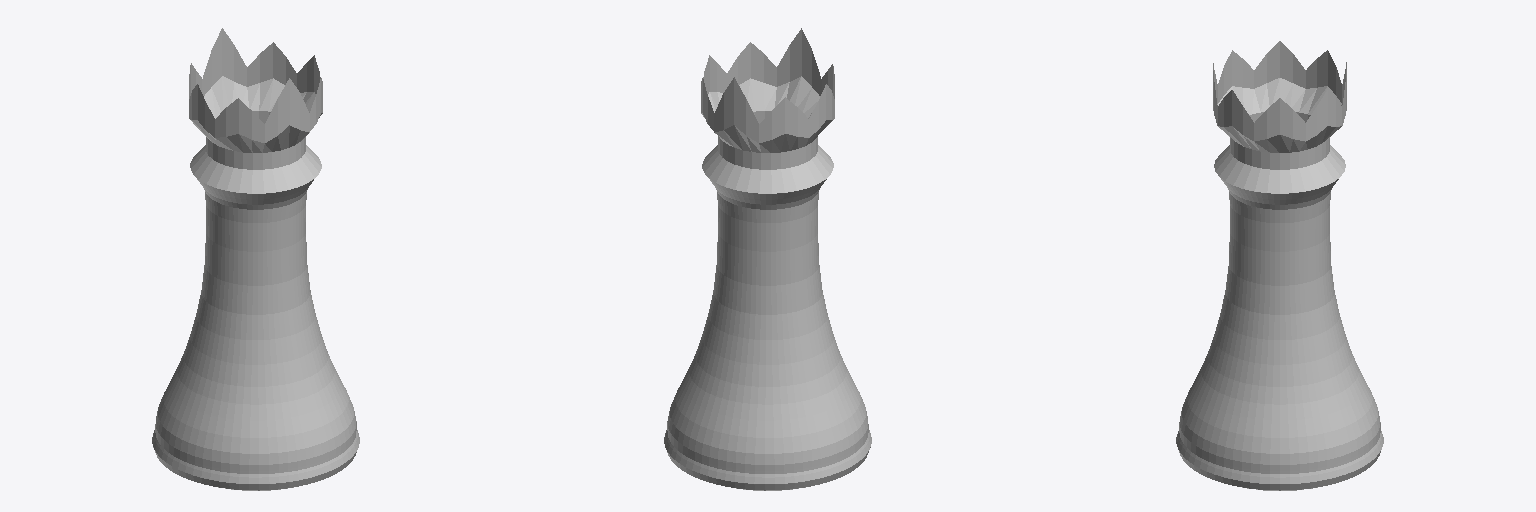
The model's file is CandyKingPiece.obj.
3 renders of one model, left to right at view 1: azimuth 30°, elevation 25°; view 2: azimuth 150°, elevation 25°; view 3: azimuth 270°, elevation 25°, orthographic.
Parts seen in each view (by area): view 1: Cylinder_Cylinder.001; view 2: Cylinder_Cylinder.001; view 3: Cylinder_Cylinder.001.
Boxes of the visible parts, x1=… form: Cylinder_Cylinder.001: x1=152, y1=28, x2=359, y2=490; Cylinder_Cylinder.001: x1=664, y1=28, x2=871, y2=490; Cylinder_Cylinder.001: x1=1176, y1=41, x2=1383, y2=490.
Bounding box in the file's own units: 0.8604 × 1.86 × 0.8604.